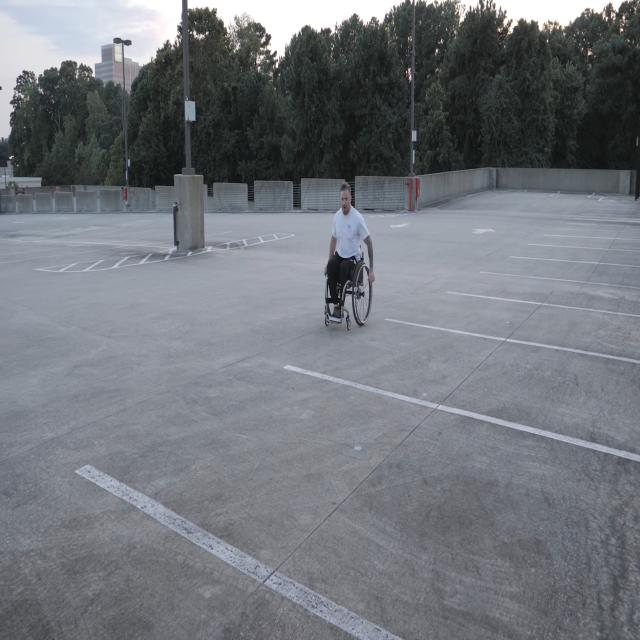wheelchairs: (322, 237, 374, 332)
